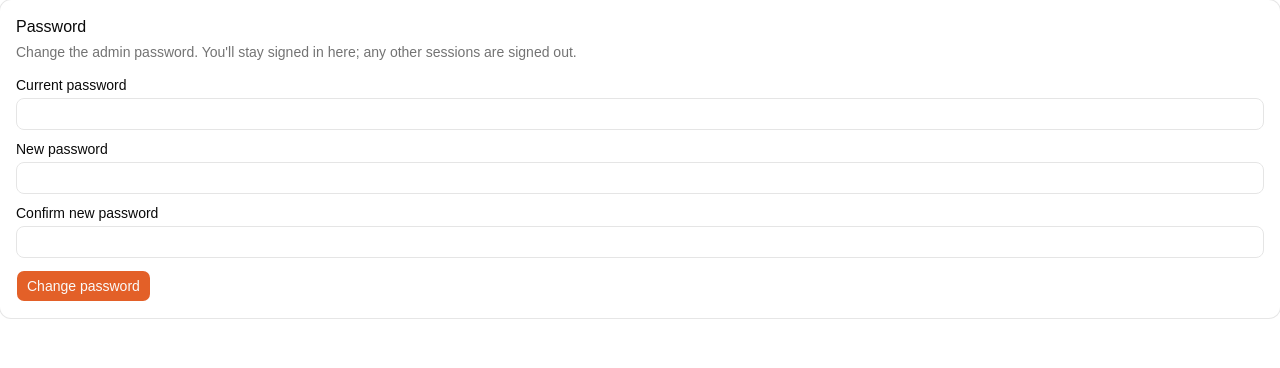
Test: ChangePasswordCard › surfaces the server's 403 detail when the current password is wrong
Type "wrong-pw" into the password field labelled "Current password" at x=640, y=114, box x1=16 y1=98 x2=1264 y2=130
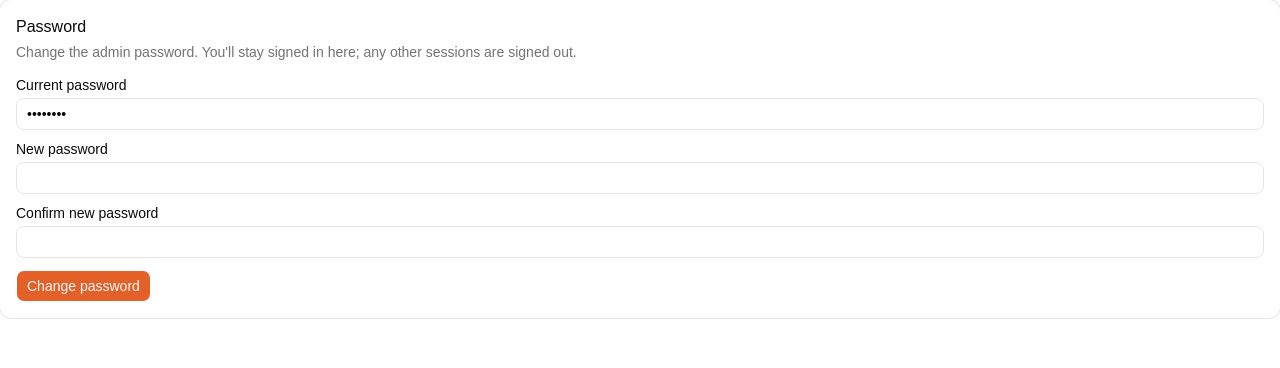
Type "new-password-1" into the password field labelled "New password" at x=640, y=178, box x1=16 y1=162 x2=1264 y2=194
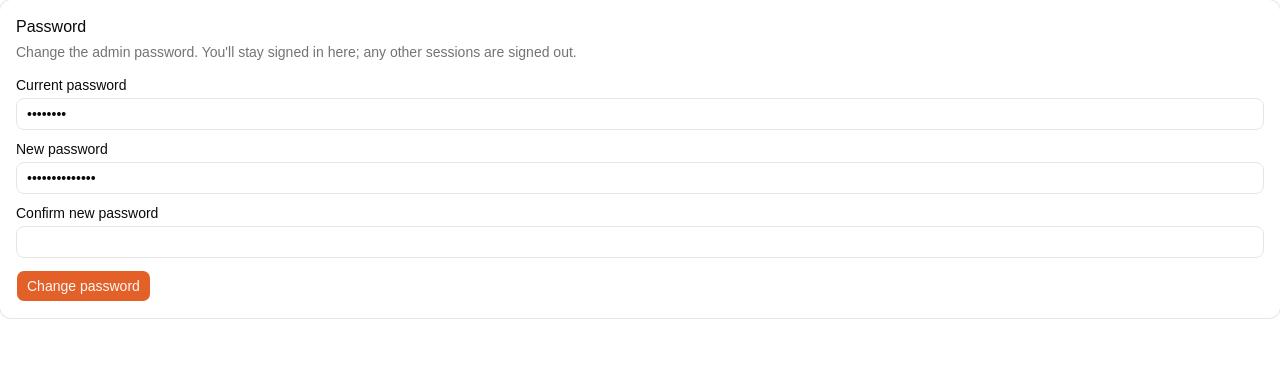
Type "new-password-1" into the password field labelled "Confirm new password" at x=640, y=242, box x1=16 y1=226 x2=1264 y2=258
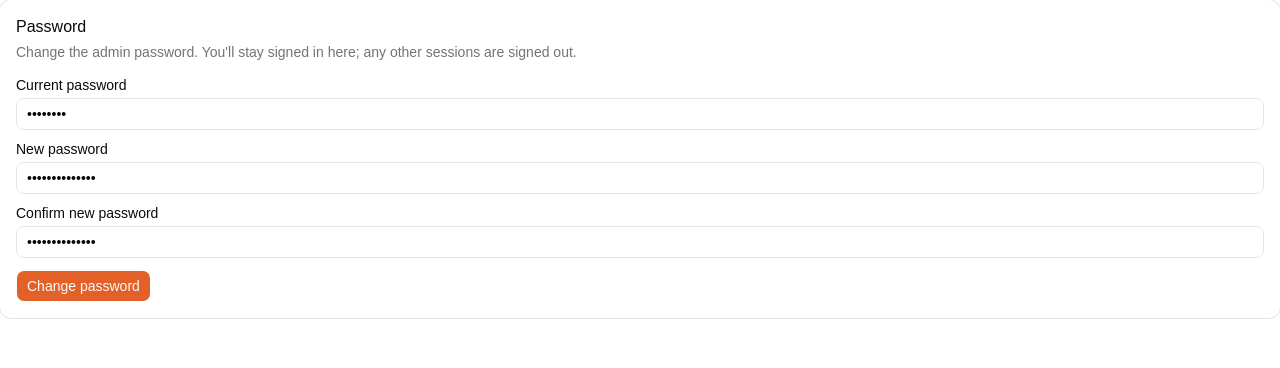
Click the button "Change password" at x=83, y=286, box x1=16 y1=270 x2=151 y2=302
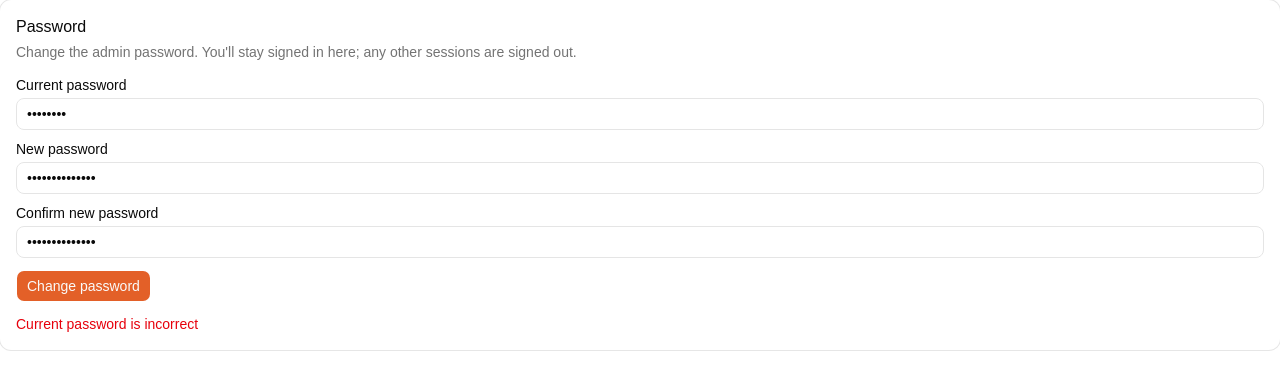
Check: the text "Current password is incorrect" is shown, box x1=16 y1=316 x2=198 y2=332
